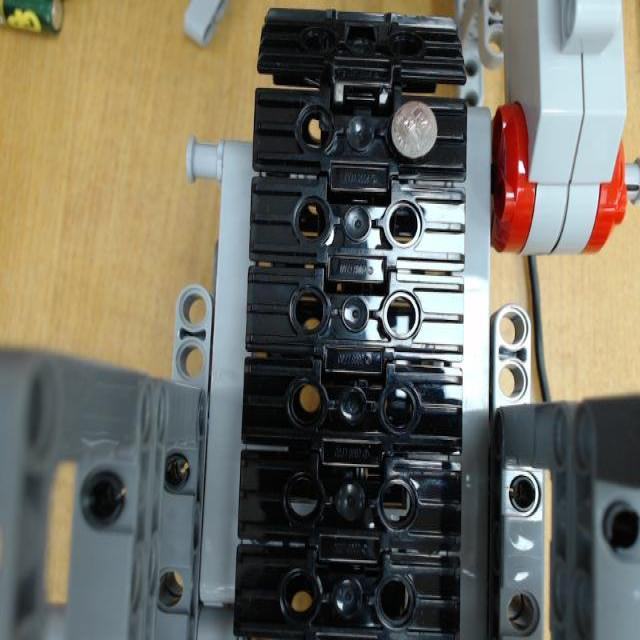COIN: (388, 99, 440, 164)
